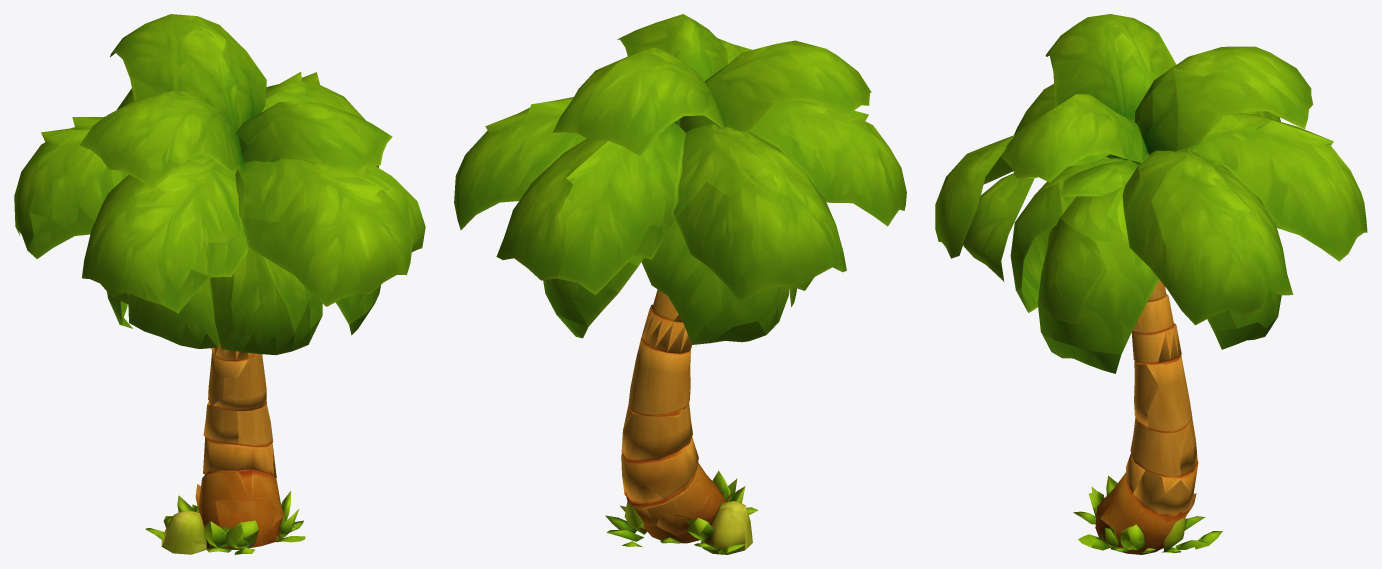
File: palm.glb
The picture shows the model from 3 angles, left to right: view 1: azimuth 30°, elevation 25°; view 2: azimuth 150°, elevation 25°; view 3: azimuth 270°, elevation 25°; orthographic projection. The views are drawn at different scales.
Bounding box in the file's own units: 0.7578 × 1 × 0.8086.
1 material, 1 textured.
